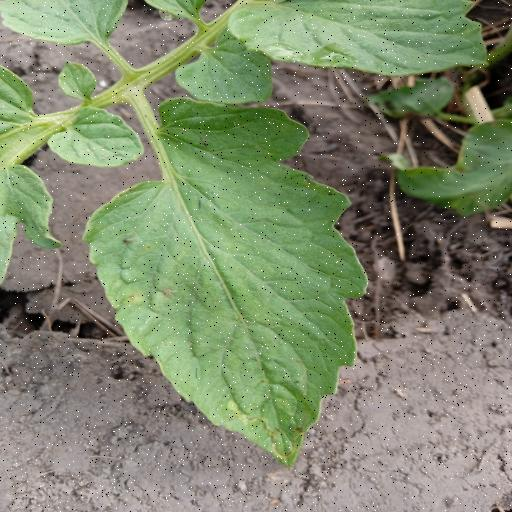Tomato_Brown_Spots: (81, 93, 382, 467)
